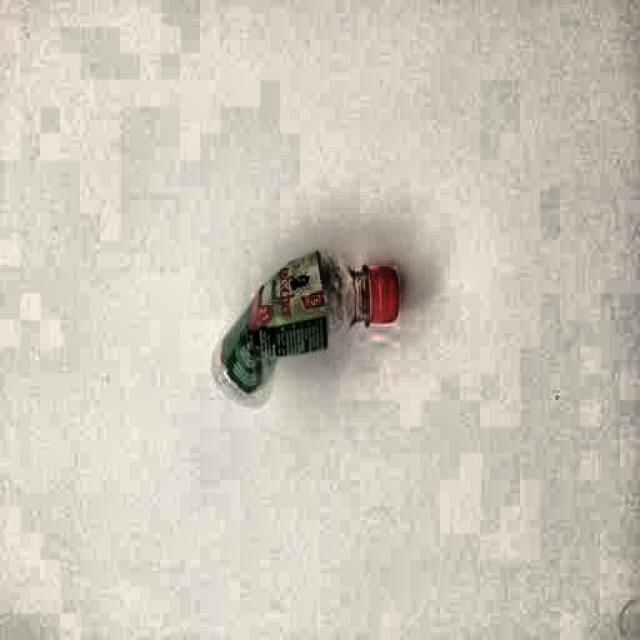plastic: (218, 249, 404, 400)
